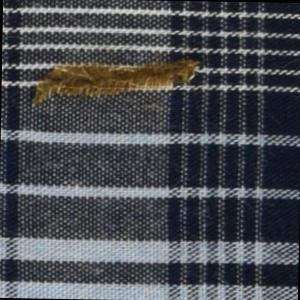Damage: (34, 60, 198, 100)
Oil Stain: (25, 55, 205, 115)
